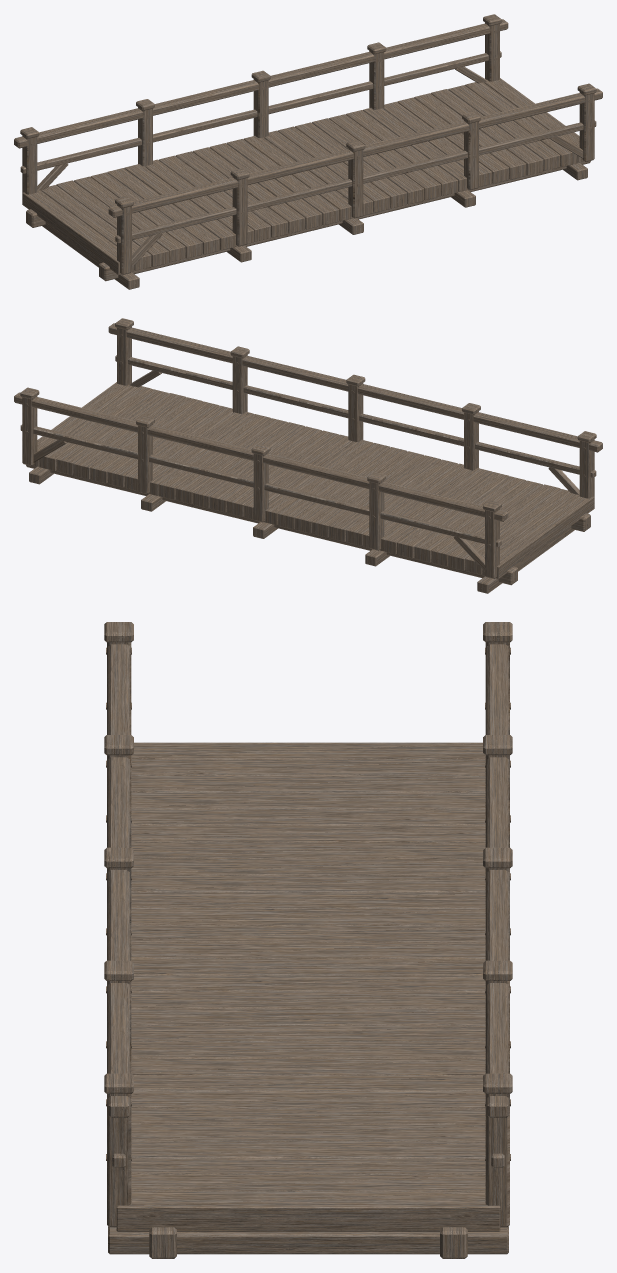
Rendered from KH_CourseBridge.fbx.
3 renders of one model, top to bottom at view 1: azimuth 30°, elevation 25°; view 2: azimuth 150°, elevation 25°; view 3: azimuth 270°, elevation 25°, orthographic. The views are drawn at different scales.
Parts seen in each view (by area): view 1: KH_CourseBridge; view 2: KH_CourseBridge; view 3: KH_CourseBridge.
Part boxes in pixels (x1=…): KH_CourseBridge: x1=14, y1=14, x2=602, y2=289; KH_CourseBridge: x1=14, y1=318, x2=602, y2=593; KH_CourseBridge: x1=104, y1=622, x2=512, y2=1258.
Size of the model in its own units: 1028 by 178 by 371.
